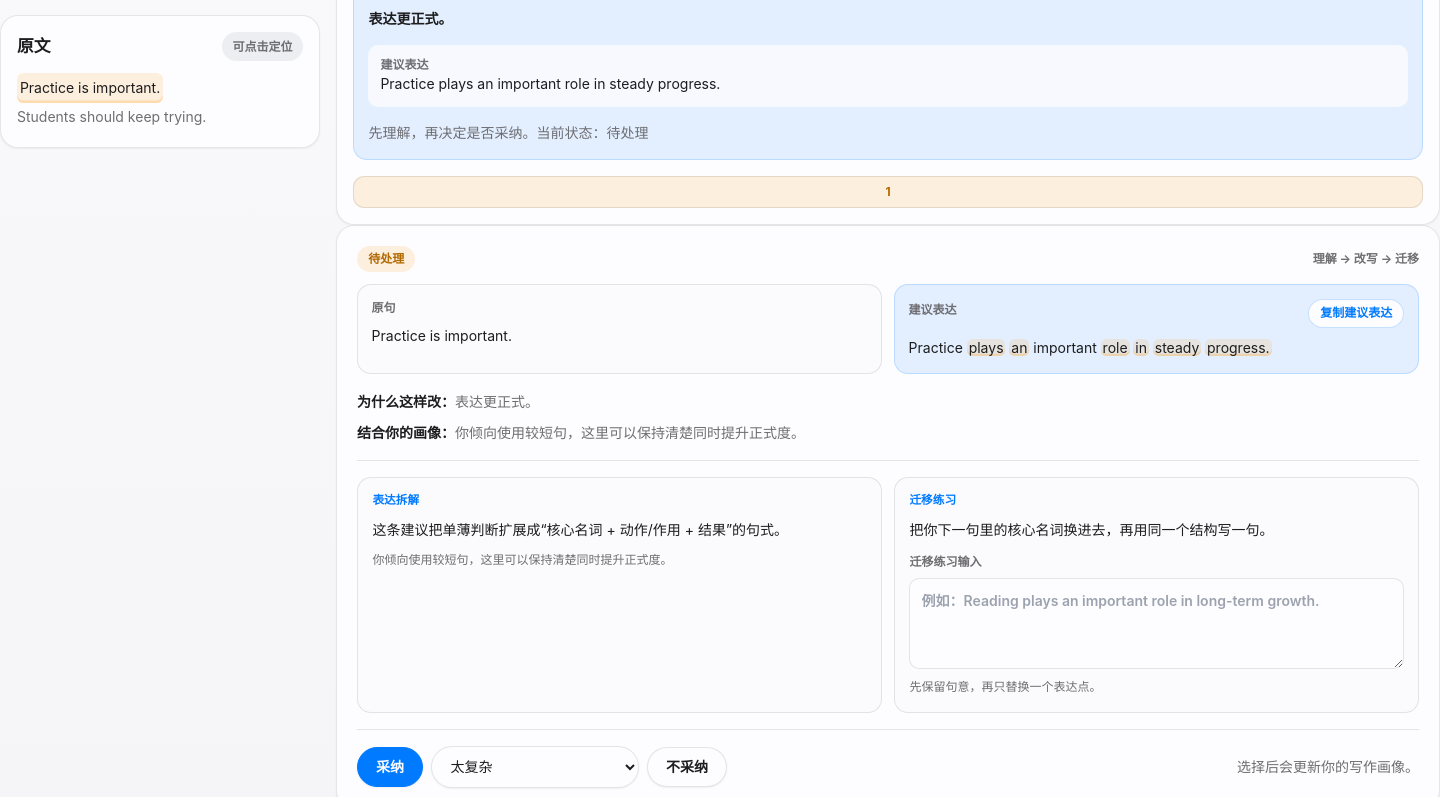
Test case: InteractiveEssayReview › updates the sentence state after rejecting a suggestion
(page scrolled)
What coordinates should you click on to do the following:
click the button "不采纳"
I would click on:
 (687, 767)
Its box is [647,747,727,787].
(page scrolled)
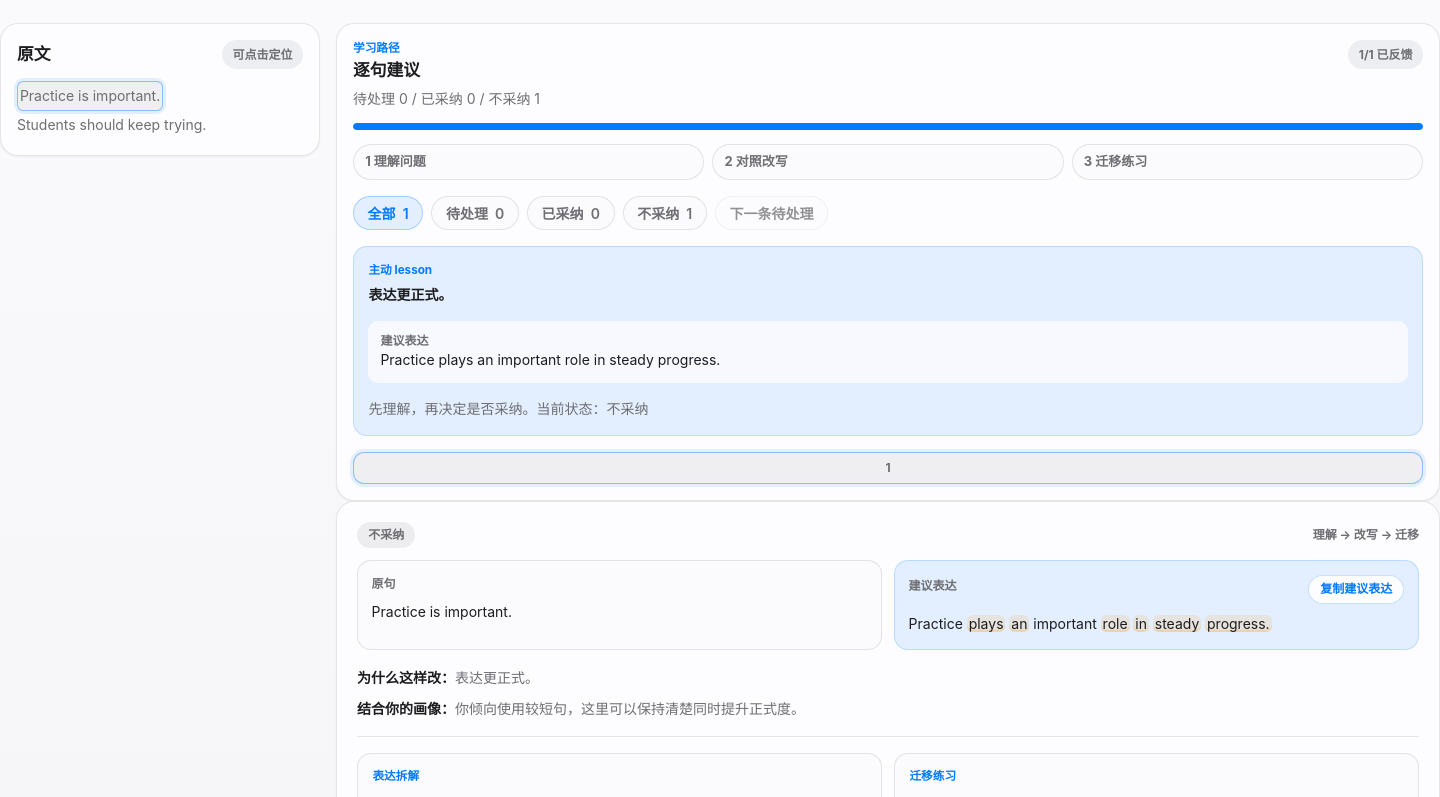
expect the text with test id "review-progress-summary" shows "不采纳 1": met, box [353,87,540,111]
